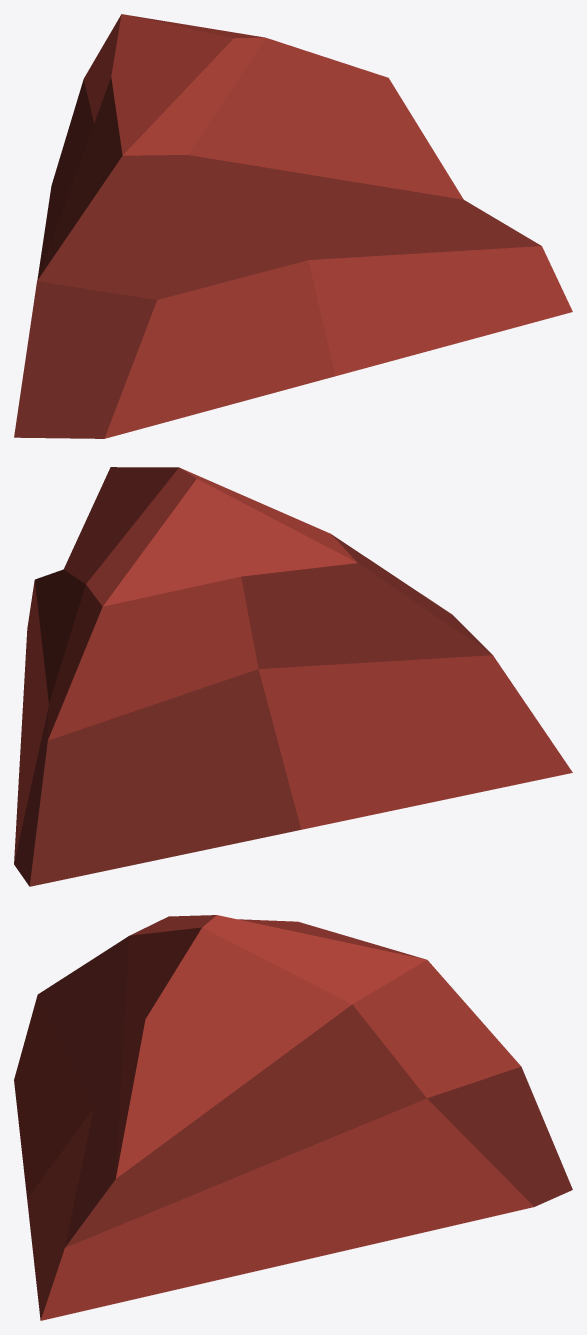
Rendered from Stone_4_Red.fbx.
3 renders of one model, top to bottom at view 1: azimuth 30°, elevation 25°; view 2: azimuth 150°, elevation 25°; view 3: azimuth 270°, elevation 25°, orthographic. The views are drawn at different scales.
Visible parts, largest first — view 1: Stone_4_Red_Part_1, Stone_4_Red_Part_2; view 2: Stone_4_Red_Part_1, Stone_4_Red_Part_2; view 3: Stone_4_Red_Part_1, Stone_4_Red_Part_2.
Boxes of the visible parts, x1,y1,x2,y2 form: Stone_4_Red_Part_1: (84, 14, 572, 438); Stone_4_Red_Part_2: (14, 77, 541, 438); Stone_4_Red_Part_1: (14, 467, 572, 863); Stone_4_Red_Part_2: (14, 534, 492, 886); Stone_4_Red_Part_1: (14, 915, 533, 1320); Stone_4_Red_Part_2: (37, 936, 572, 1247).
Size of the model in its own units: 232 by 110 by 200.
